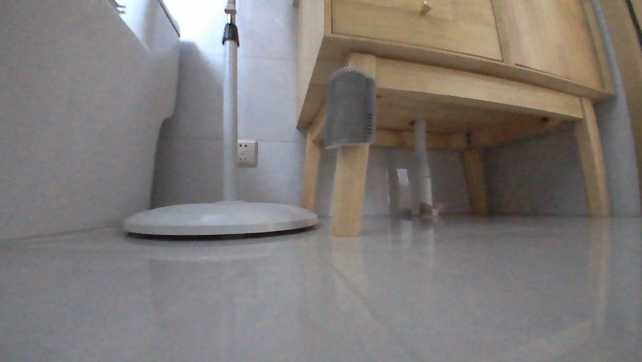chair_base: (122, 135, 321, 240)
toilet: (0, 0, 185, 236)
